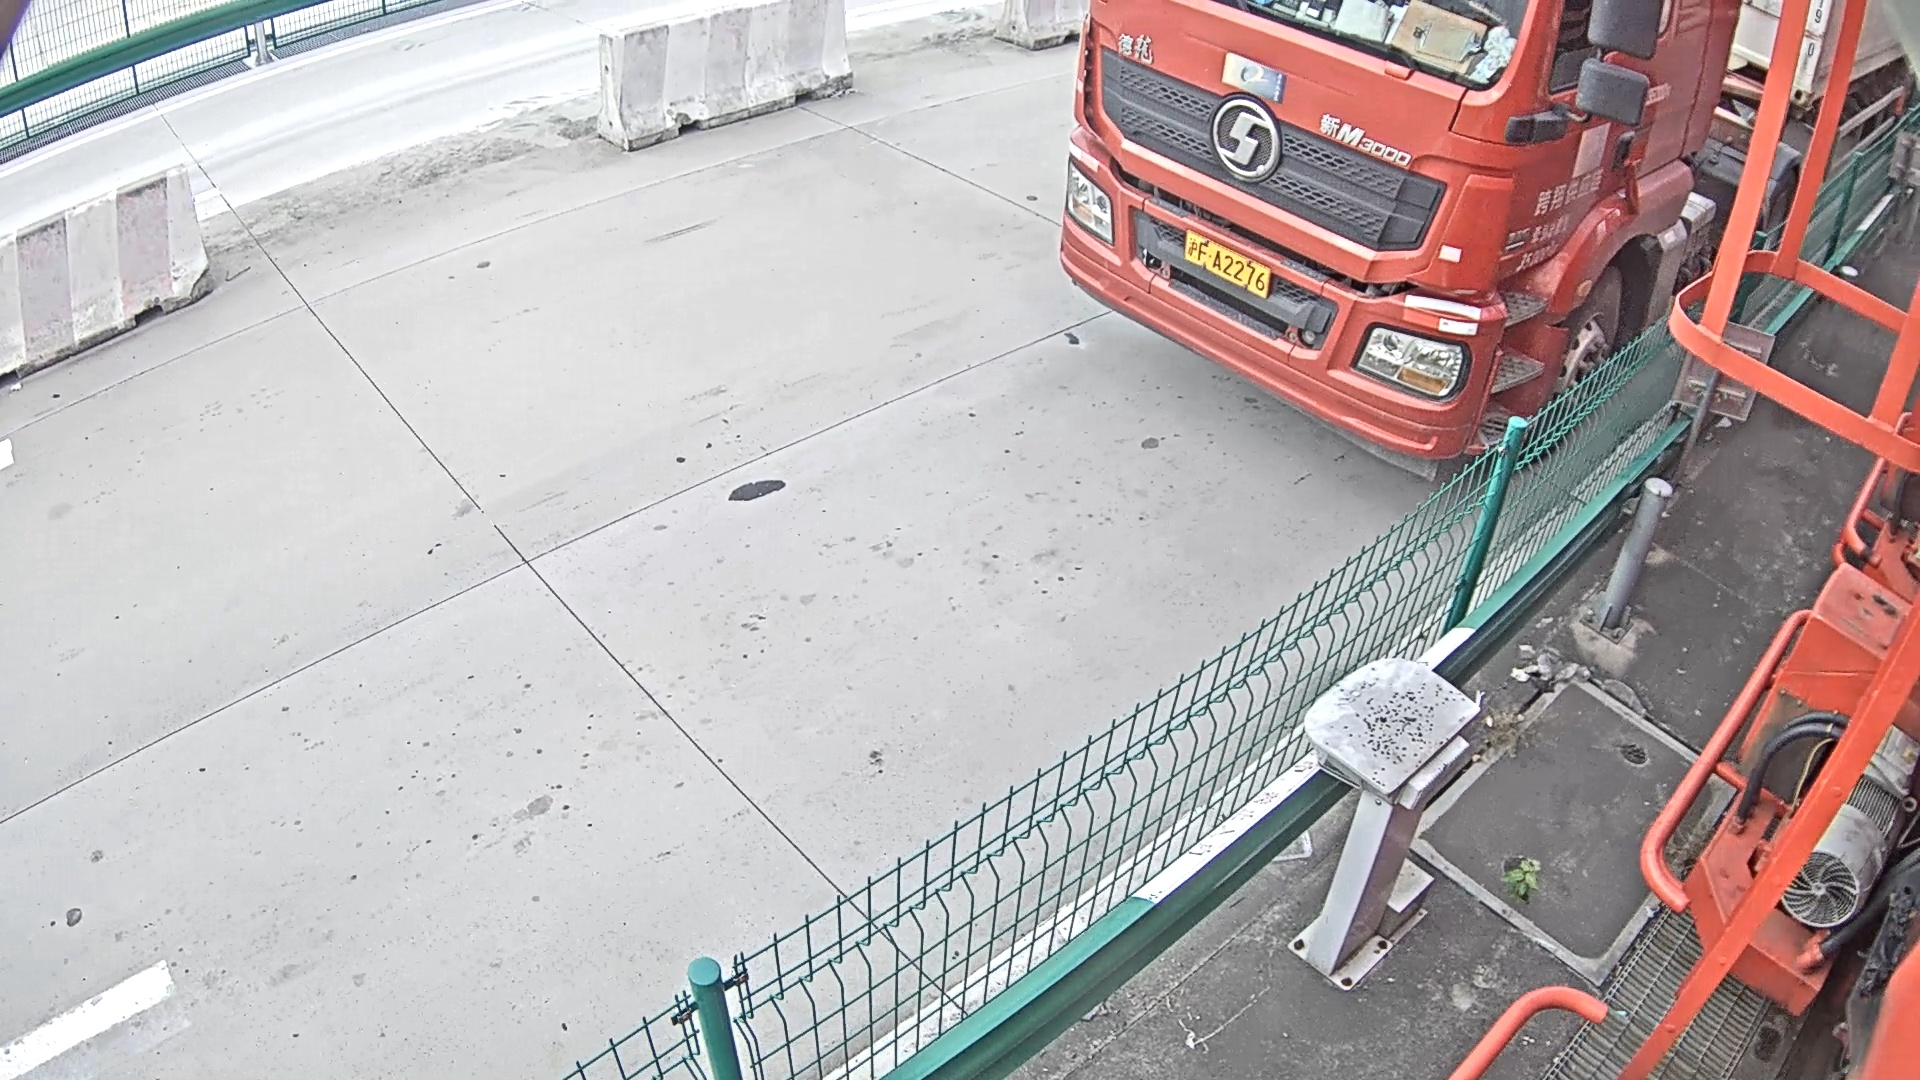head: (1061, 1, 1739, 472)
plate: (1184, 229, 1268, 300)
